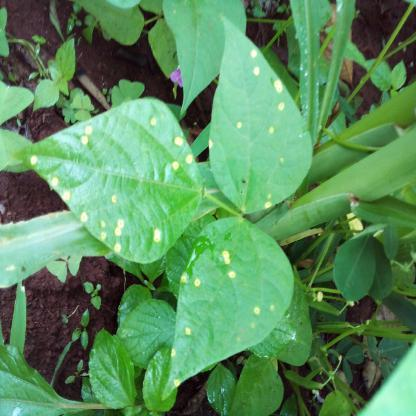Beans_Rust: (18, 97, 202, 261), (164, 218, 294, 402), (207, 15, 312, 209)
